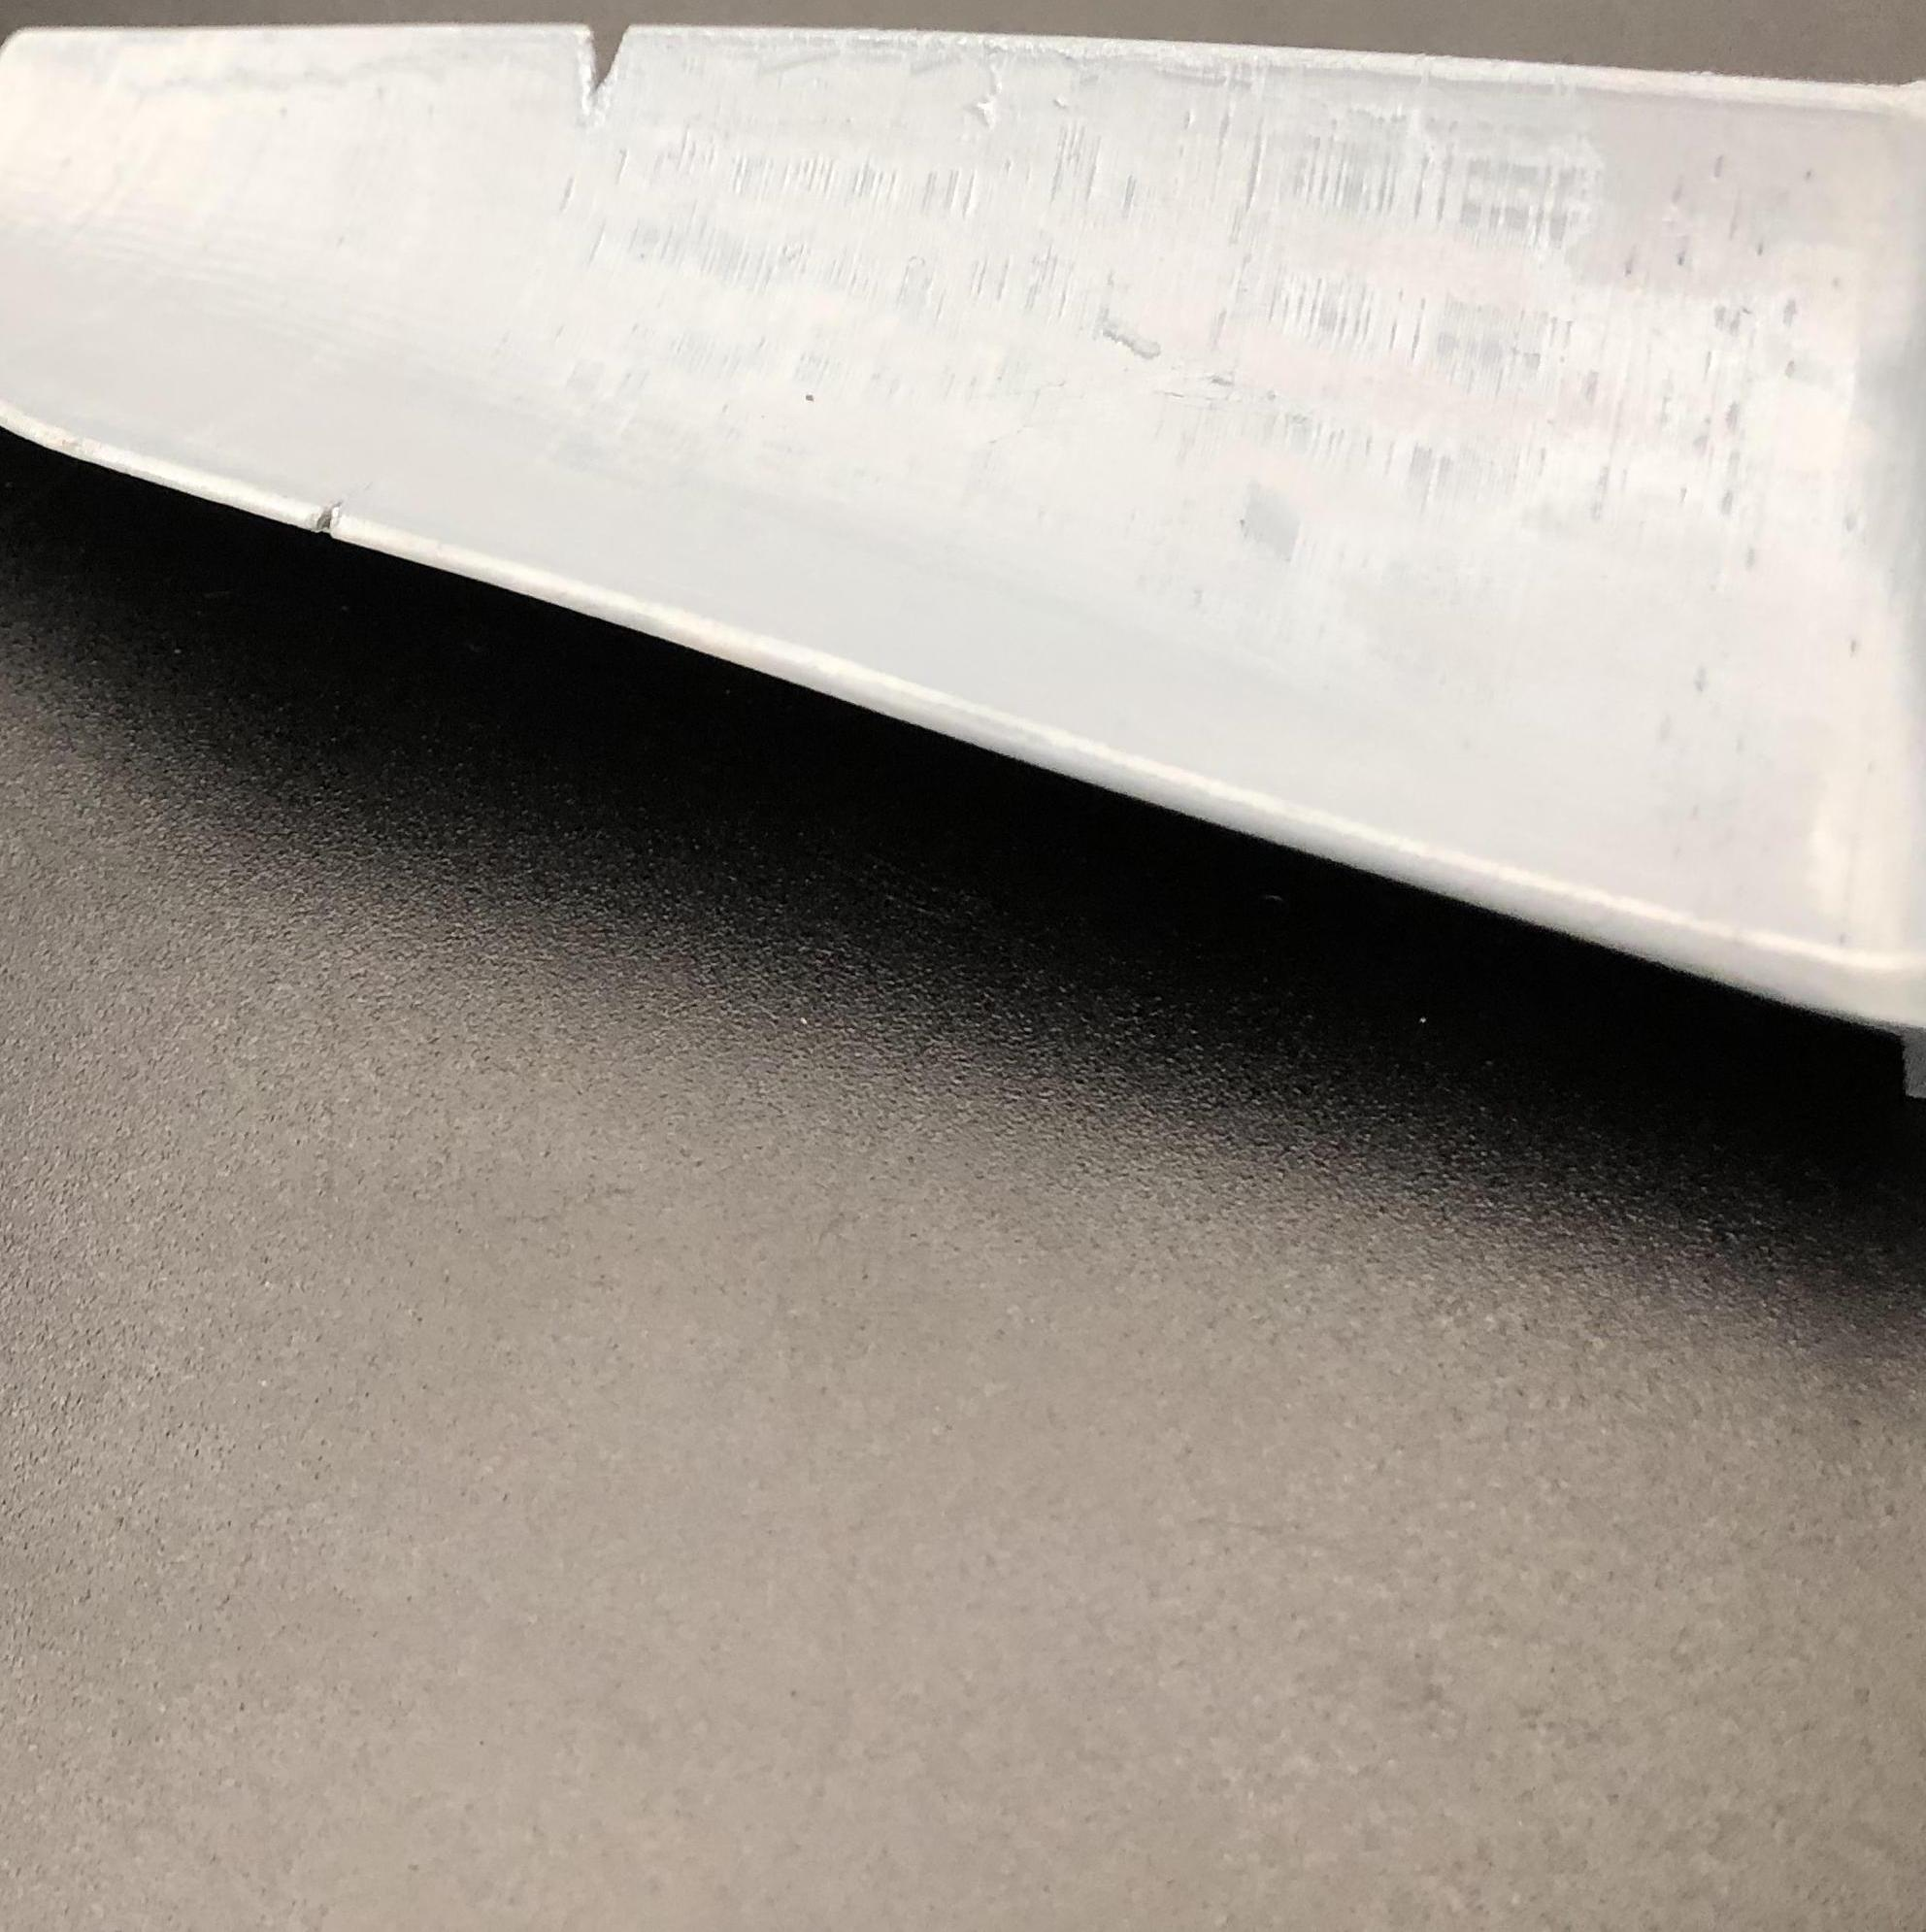groove: (564, 25, 649, 106), (307, 494, 360, 538)
